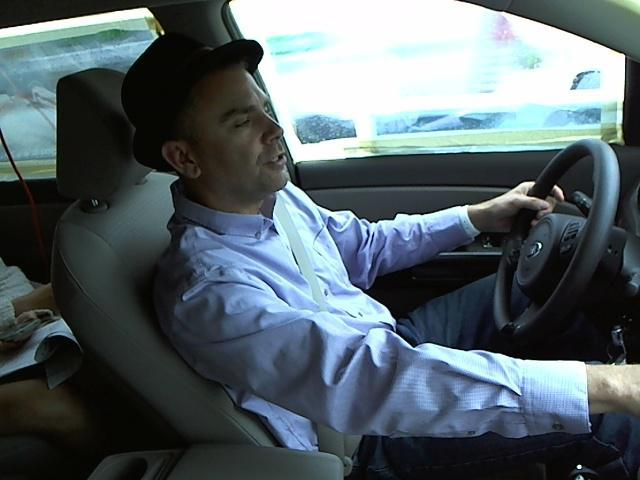c3 - Operating the Radio: (109, 23, 635, 434)
